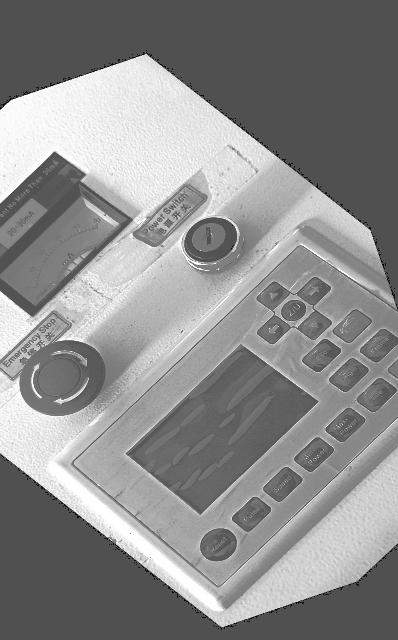Amp_Meter: (0, 154, 132, 315)
Display: (126, 345, 318, 512)
Down_button: (298, 311, 331, 340)
Emergency_Stop: (20, 341, 106, 417)
Enter_button: (333, 310, 372, 343)
Esc_button: (303, 339, 341, 372)
File_button: (357, 379, 396, 412)
Frame_button: (360, 329, 398, 362)
Left_button: (257, 316, 290, 344)
Max-Power_button: (326, 408, 365, 442)
Min-Power_button: (295, 438, 333, 472)
Origin_button: (330, 359, 368, 392)
Power_switch: (181, 217, 245, 274)
Pulse_button: (232, 497, 271, 531)
Reset_button: (200, 529, 236, 561)
Right_button: (298, 277, 330, 306)
Speed_button: (264, 468, 302, 501)
Start-Pause_button: (389, 360, 398, 378)
Up_button: (257, 282, 289, 310)
Z_U_button: (282, 300, 306, 321)
